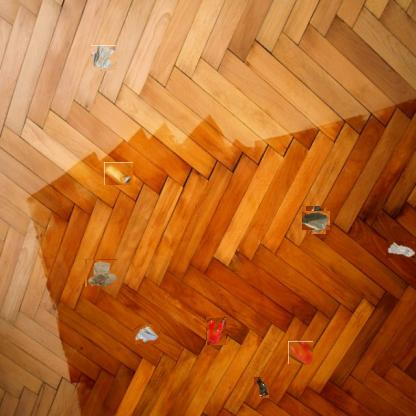dirty: (86, 259, 118, 287), (104, 162, 133, 185), (91, 45, 116, 71), (304, 208, 328, 232), (386, 240, 416, 258), (134, 324, 160, 344), (254, 376, 270, 398)
liquid: (288, 341, 313, 364), (206, 317, 226, 345)
